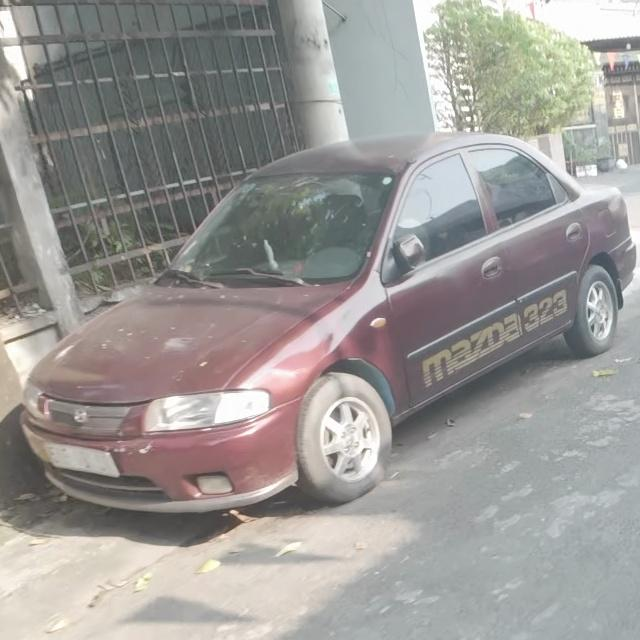license-plate: (35, 440, 122, 479)
